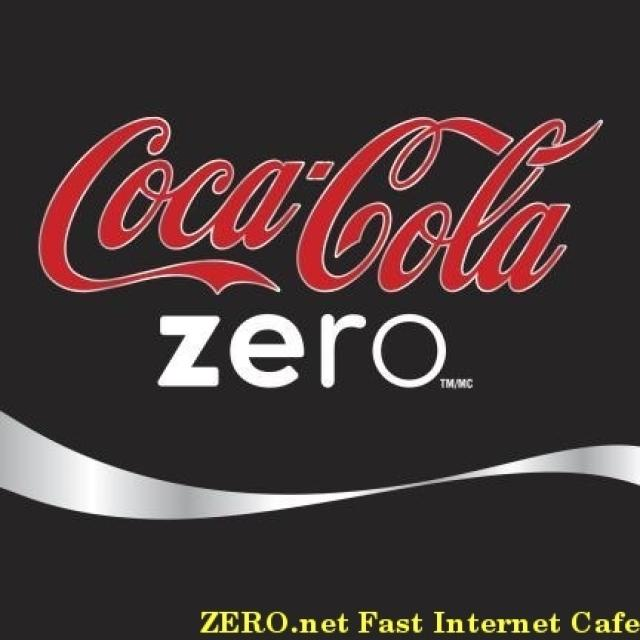cocacola: (28, 99, 631, 309)
